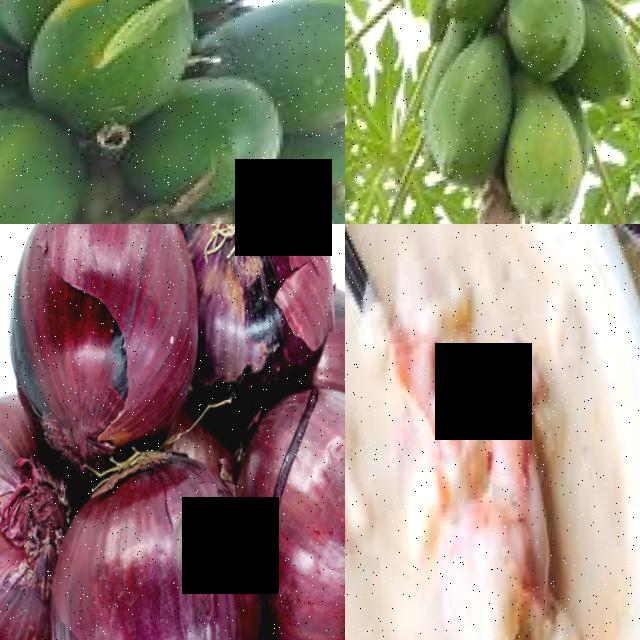onion: (0, 224, 194, 478), (41, 443, 261, 640), (182, 224, 336, 414), (242, 393, 345, 640), (0, 384, 51, 640)
pawpaw: (128, 79, 280, 224), (418, 32, 508, 198), (502, 79, 577, 224), (275, 0, 345, 149), (0, 104, 75, 224), (506, 0, 581, 84), (445, 0, 519, 31)
